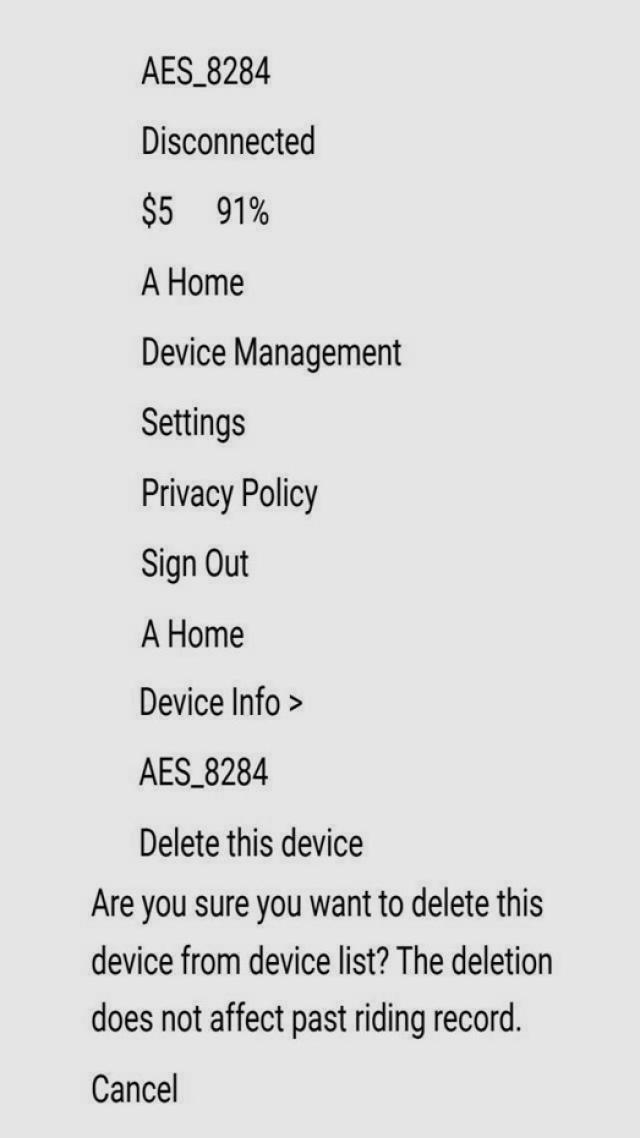Text: (90, 882, 546, 925), (91, 939, 554, 981), (90, 996, 521, 1041), (140, 330, 407, 374), (138, 824, 366, 864), (138, 475, 324, 518), (144, 124, 324, 158), (139, 54, 278, 94), (140, 753, 272, 793), (135, 682, 281, 718), (139, 542, 253, 586), (139, 405, 250, 445), (135, 262, 248, 301), (138, 616, 252, 651), (86, 1070, 188, 1108), (216, 192, 274, 229), (138, 192, 178, 229)
